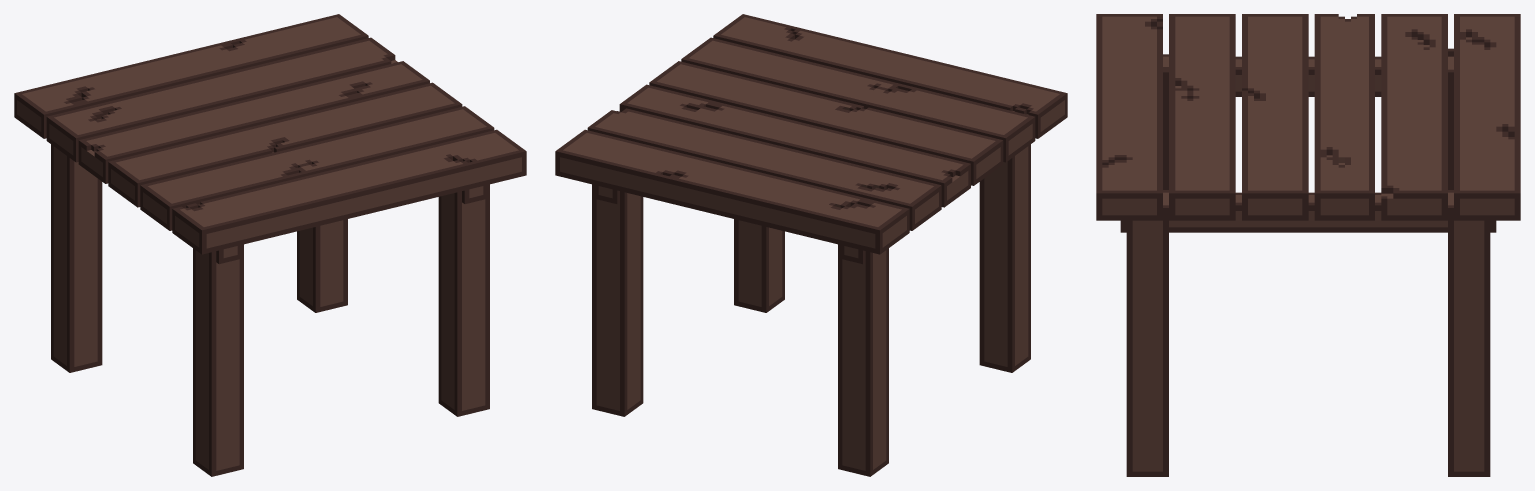
The model's file is Things-0-Desk.obj.
The picture shows the model from 3 angles, left to right: view 1: azimuth 30°, elevation 25°; view 2: azimuth 150°, elevation 25°; view 3: azimuth 270°, elevation 25°; orthographic projection. The views are drawn at different scales.
Parts seen in each view (by area): view 1: Desk; view 2: Desk; view 3: Desk.
Boxes of the visible parts, x1,y1,x2,y2 form: Desk: (14,14,526,476); Desk: (555,14,1067,476); Desk: (1096,14,1520,476).
Bounding box in the file's own units: 7 × 5.4 × 7.
Materials: 1 (1 with a texture image).
